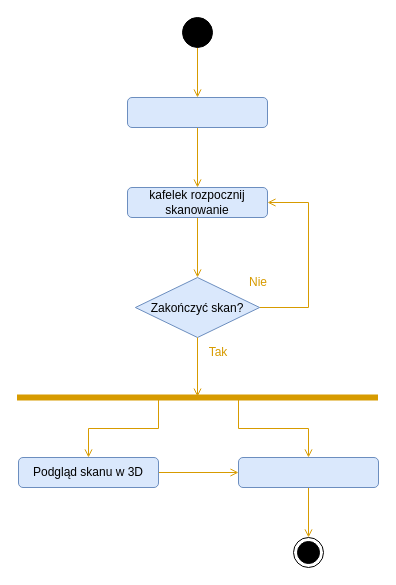
Image size: 396x585. Some labels were removed from this diagram. Each missing label, with the centre of its shape:
przycisk powitalnego ekranu: the point at 197,112
Zapisz skan: the point at 308,472
